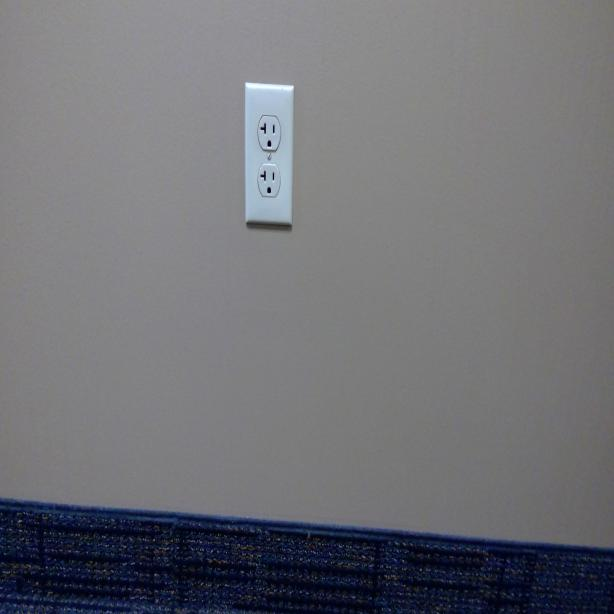typeb: (260, 113, 280, 152), (260, 164, 277, 196)
